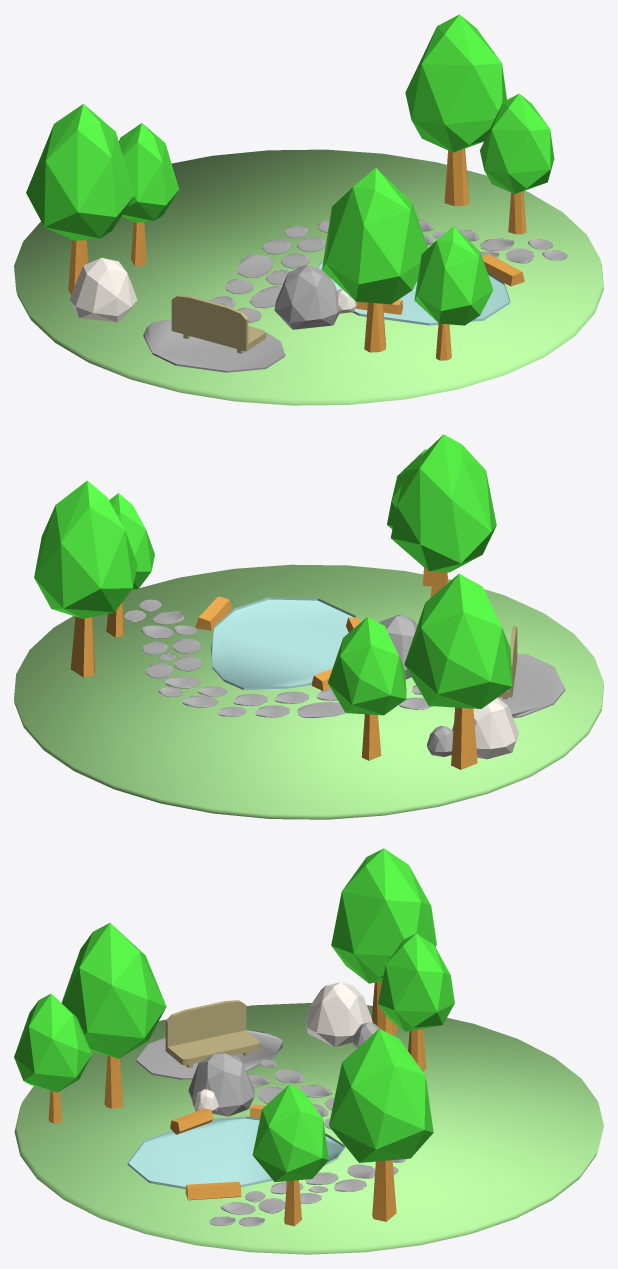
Rendered from nature.glb.
3 renders of one model, top to bottom at view 1: azimuth 30°, elevation 25°; view 2: azimuth 150°, elevation 25°; view 3: azimuth 270°, elevation 25°, orthographic.
Parts seen in each view (by area): view 1: Sphere.010; view 2: Sphere.010; view 3: Sphere.010.
Boxes of the visible parts, x1,y1,x2,y2 form: Sphere.010: [14, 14, 603, 405]; Sphere.010: [14, 434, 603, 819]; Sphere.010: [14, 848, 603, 1254].
Bounding box in the file's own units: 6.15 × 2.25 × 6.23.
